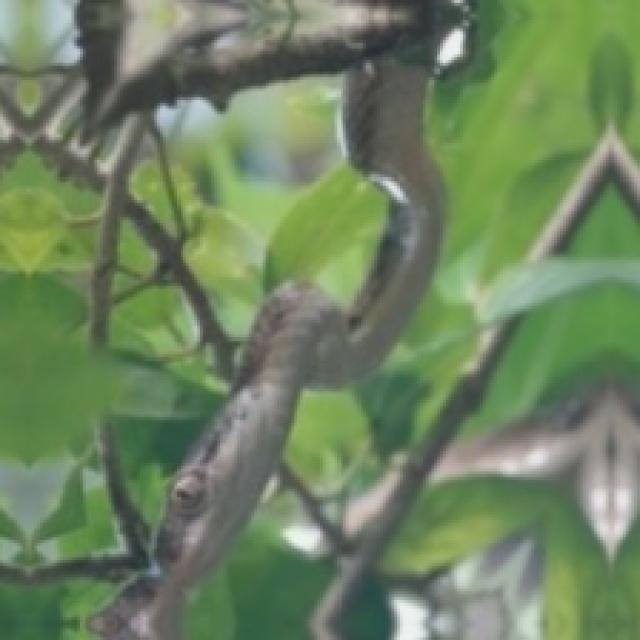dog-toothed cat snake: (83, 0, 457, 637)
